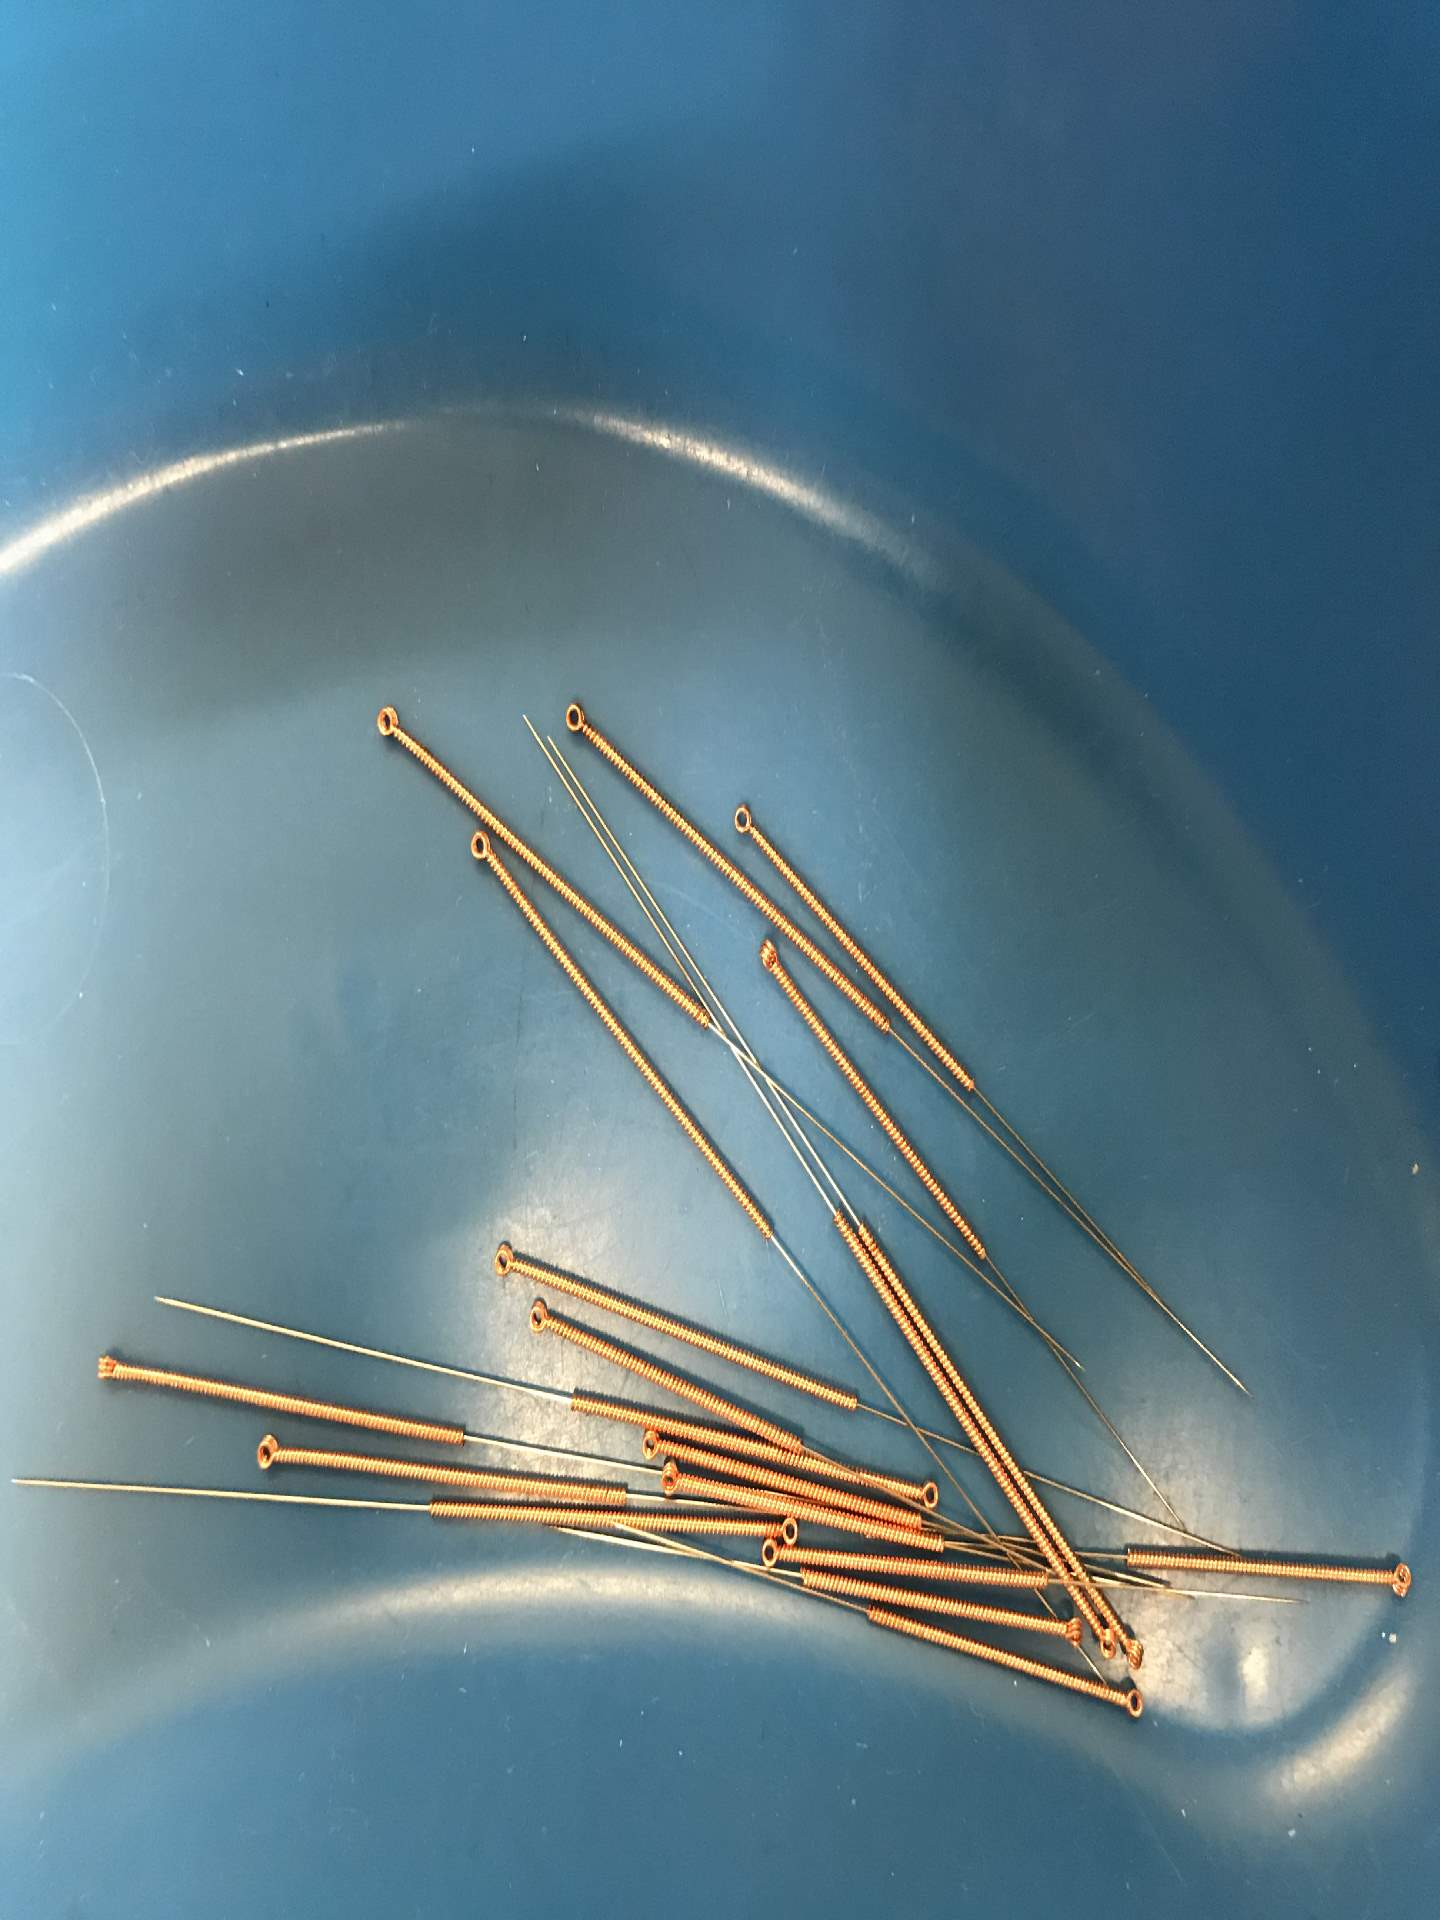needle: (554, 695, 602, 745), (245, 1429, 292, 1479), (366, 698, 411, 748), (516, 1296, 563, 1341), (86, 1346, 129, 1394), (1381, 1554, 1419, 1606), (723, 797, 764, 844), (483, 1240, 522, 1281), (652, 1457, 690, 1500), (1113, 1683, 1150, 1726), (749, 931, 784, 977), (908, 1477, 947, 1513), (464, 827, 496, 869), (631, 1426, 667, 1462), (1118, 1636, 1150, 1674), (1088, 1625, 1118, 1661), (1057, 1612, 1086, 1649), (755, 1534, 782, 1572), (774, 1513, 805, 1547)
